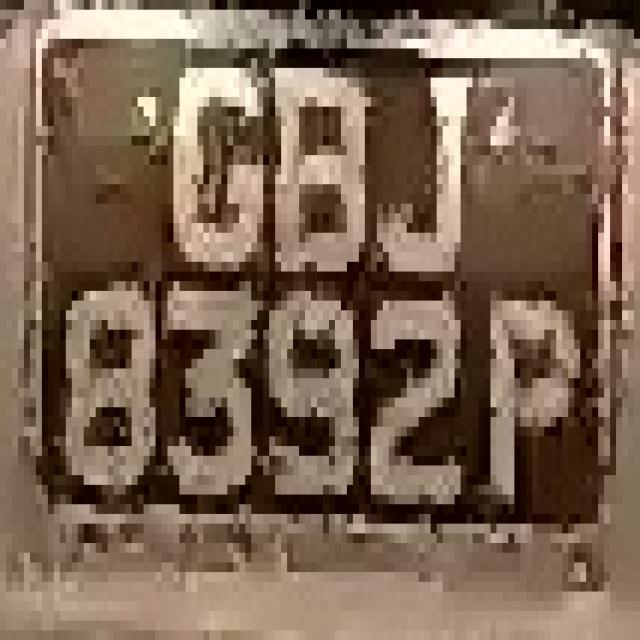2: (359, 282, 472, 534)
3: (162, 272, 251, 524)
8: (60, 262, 161, 514)
9: (251, 281, 371, 524)
B: (251, 58, 389, 291)
G: (162, 48, 263, 291)
J: (371, 48, 490, 310)
P: (473, 281, 580, 524)
